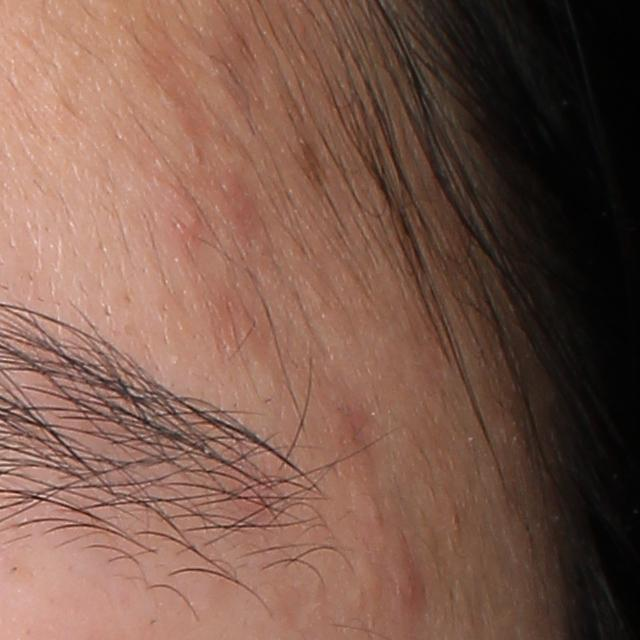papule: (388, 555, 423, 608)
